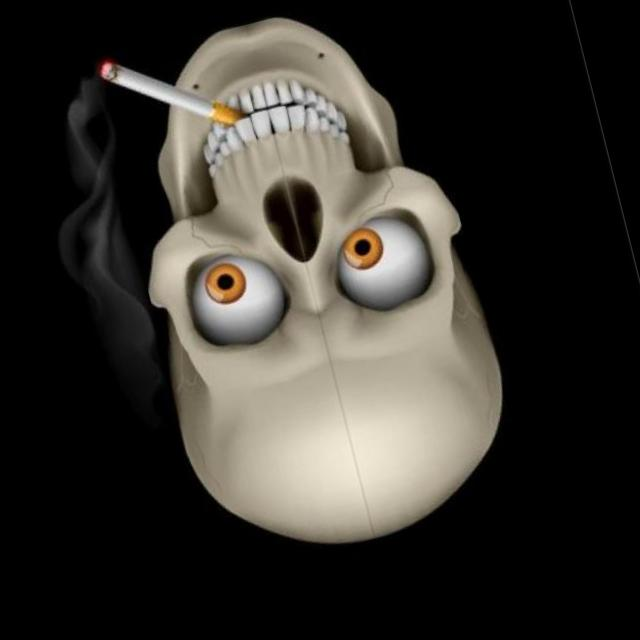smoke: (88, 21, 262, 168)
